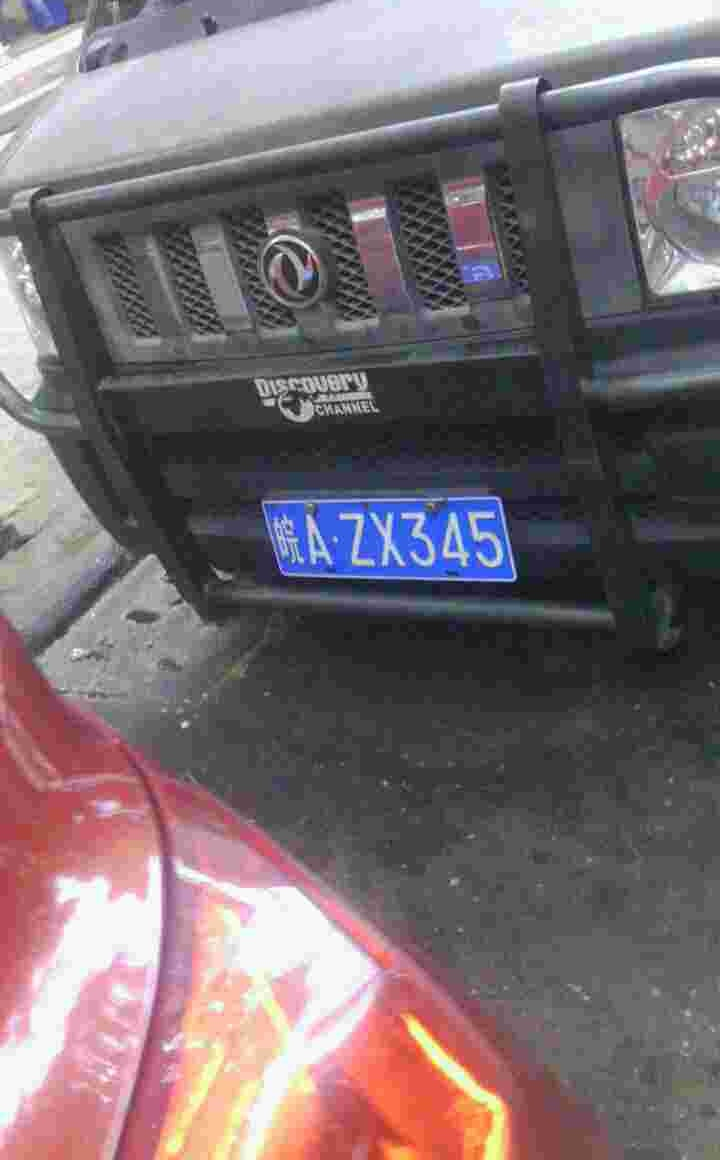plate: (252, 494, 523, 585)
